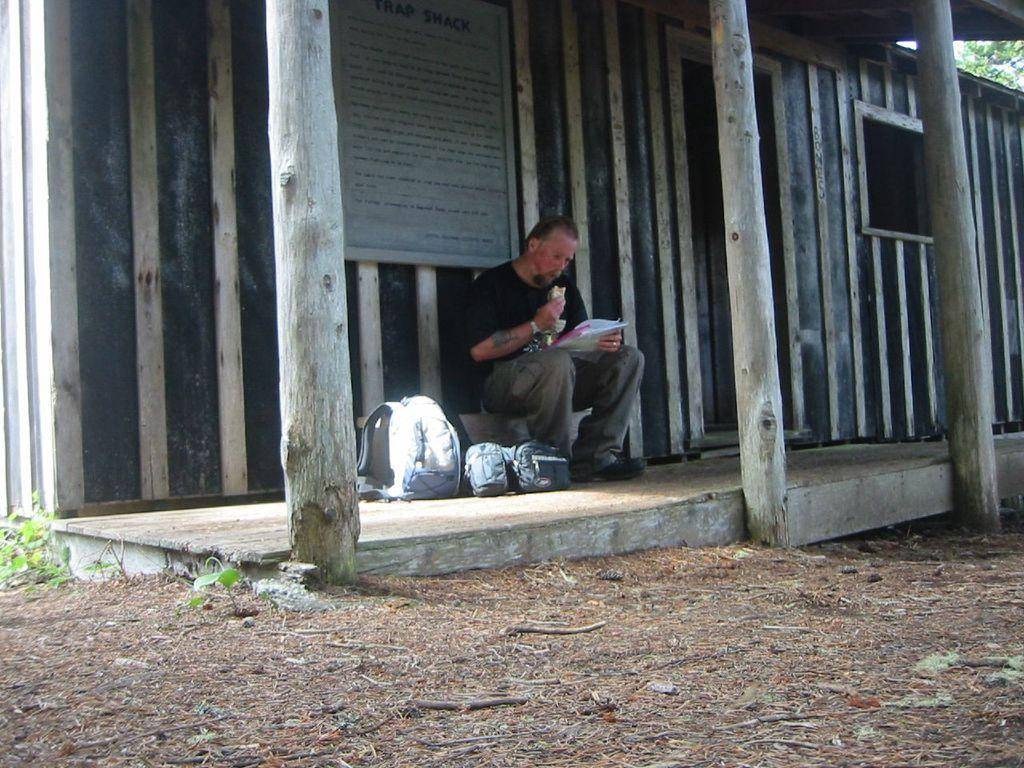Luggage-and-bags: (353, 394, 454, 502), (510, 440, 570, 498), (458, 442, 509, 498)
